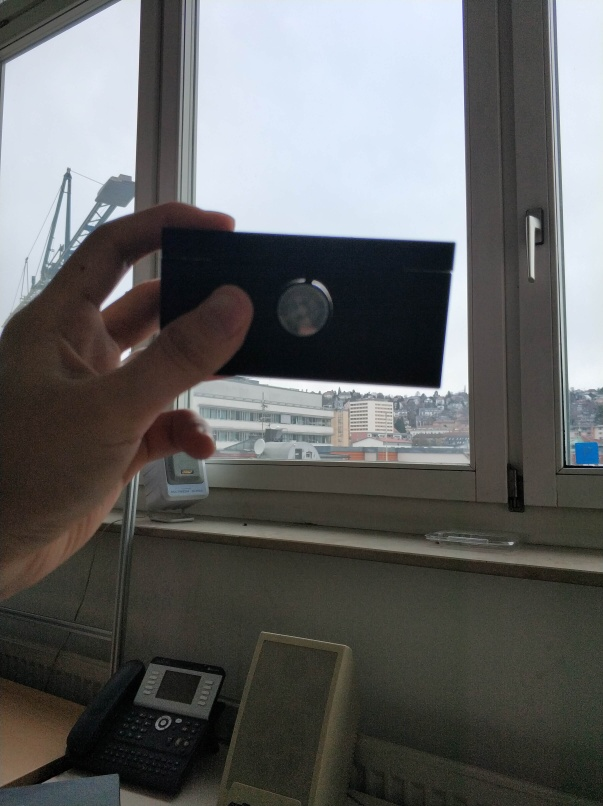black+black+silver: (158, 223, 458, 393)
